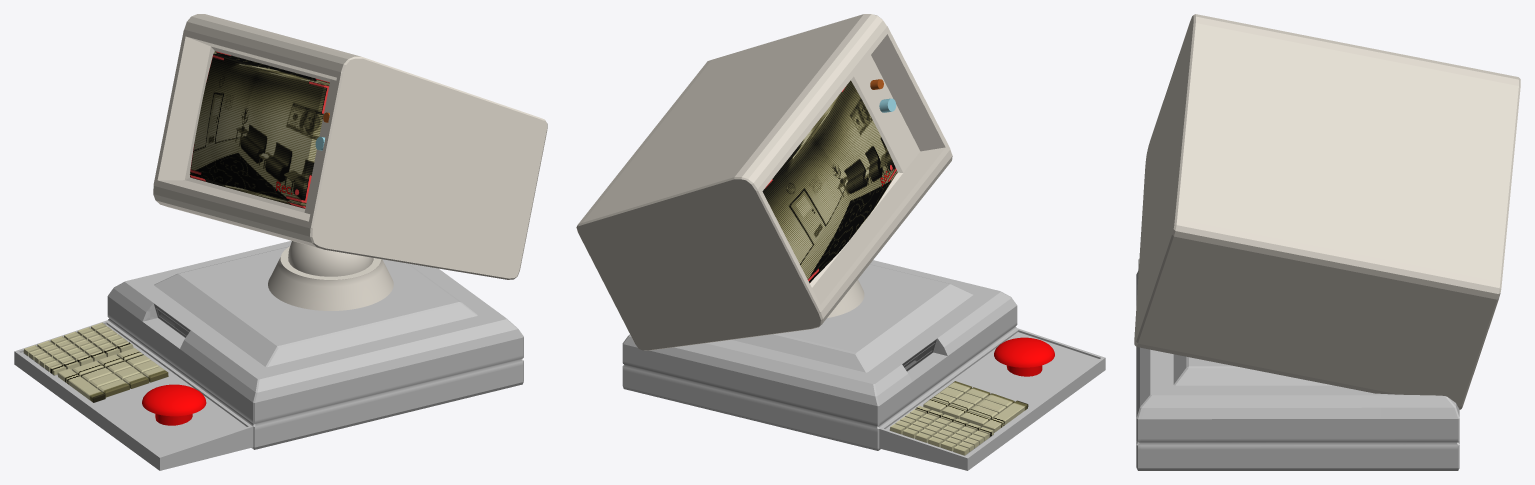
Rendered from Cartoony_Computer.obj.
The picture shows the model from 3 angles, left to right: view 1: azimuth 30°, elevation 25°; view 2: azimuth 150°, elevation 25°; view 3: azimuth 270°, elevation 25°; orthographic projection. The views are drawn at different scales.
Parts seen in each view (by area): view 1: ComputerScreen, Computer_cabinett, Computer_bridge, Computer_tilt, Computer_destructButton; view 2: ComputerScreen, Computer_cabinett, Computer_destructButton, Computer_bridge; view 3: ComputerScreen, Computer_cabinett.
Part boxes in pixels (x1,y1,x2,y2): ComputerScreen: [153, 14, 547, 279]; Computer_cabinett: [14, 240, 523, 470]; Computer_bridge: [268, 246, 393, 310]; Computer_tilt: [288, 241, 373, 276]; Computer_destructButton: [142, 384, 206, 425]; ComputerScreen: [576, 14, 952, 350]; Computer_cabinett: [622, 260, 1105, 470]; Computer_destructButton: [994, 337, 1054, 376]; Computer_bridge: [827, 279, 864, 317]; ComputerScreen: [1134, 14, 1520, 409]; Computer_cabinett: [1136, 259, 1459, 470].
Size of what is drawn, in the model's own units: 56.21 by 45.56 by 42.21.
